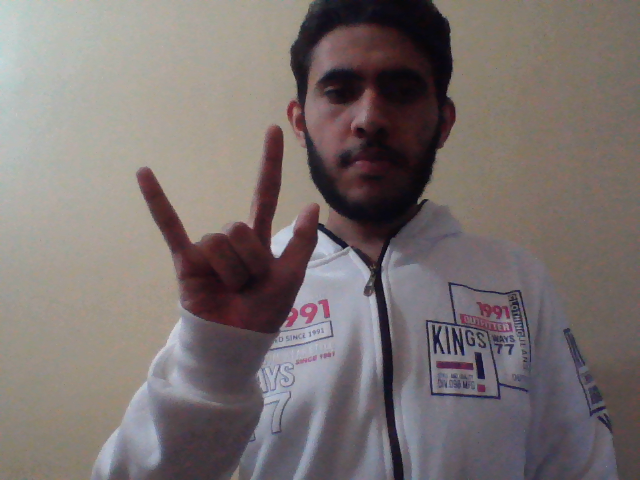iloveyou: (134, 124, 322, 342)
